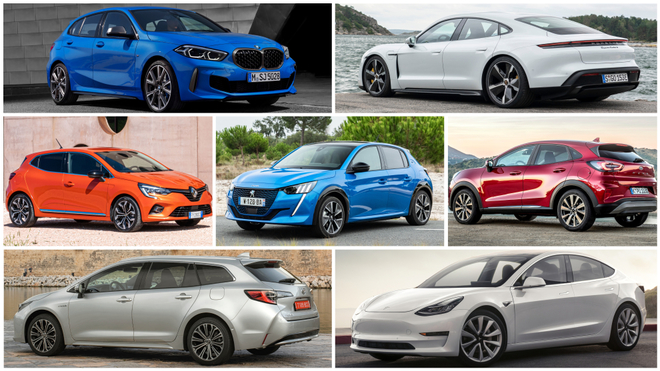Automovil: (40, 10, 305, 110), (234, 129, 428, 238)
Camioneta: (16, 257, 323, 364), (454, 139, 660, 237)
Carro: (7, 147, 211, 234)
Deportivo: (362, 255, 638, 371), (364, 11, 660, 114)
